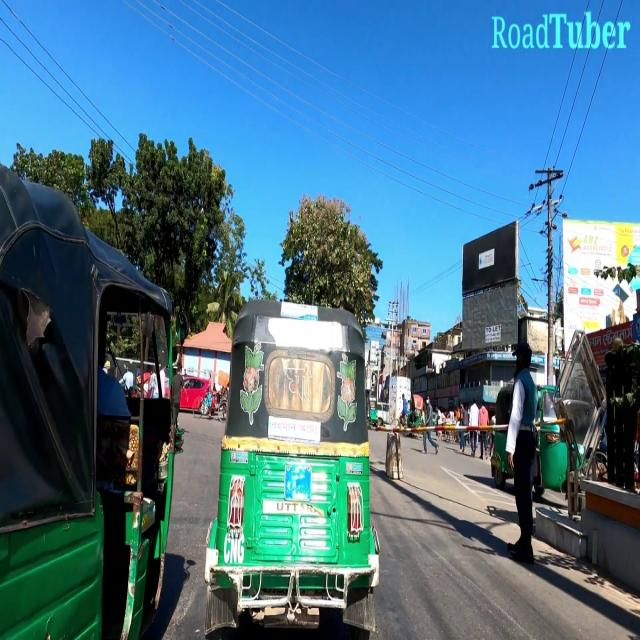red: (182, 368, 214, 416)
